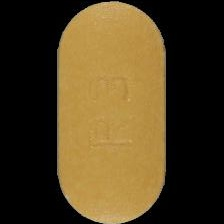21695-096: (0, 0, 224, 224)
